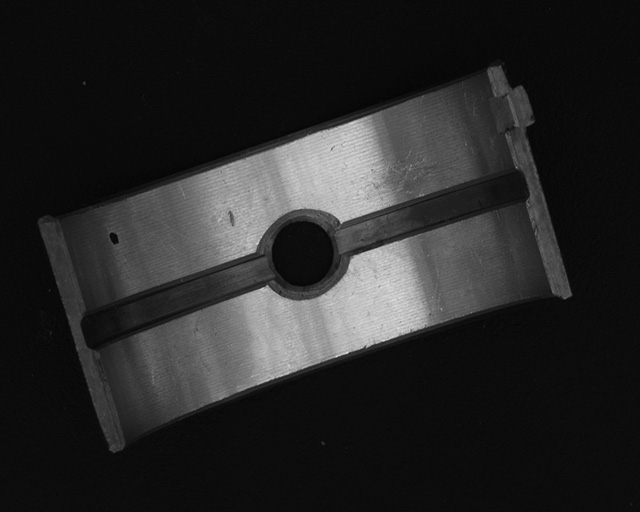blot: (108, 230, 120, 246)
bruise: (228, 210, 236, 227)
gap: (81, 256, 272, 346), (336, 169, 530, 254)
hole: (261, 214, 343, 295)
scratch: (359, 147, 464, 202)
